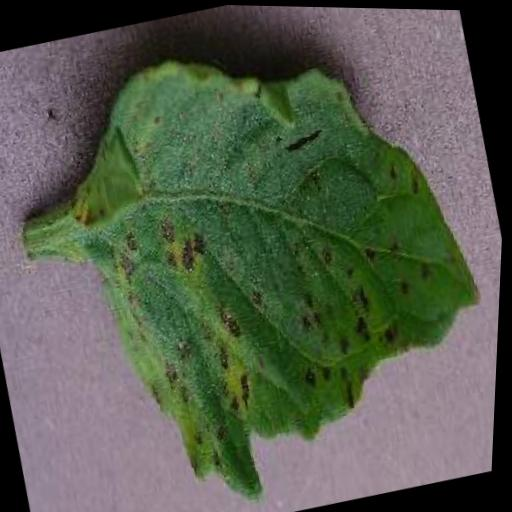Septoria: (34, 2, 512, 512)
